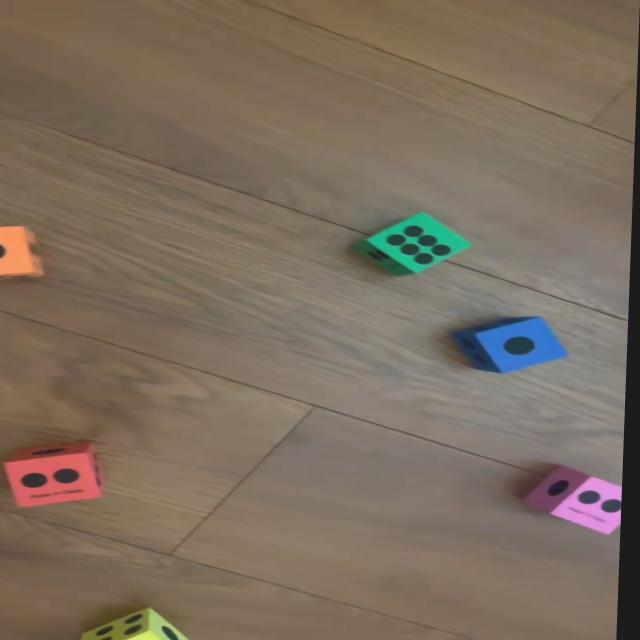cube: (350, 212, 473, 274), (9, 440, 111, 507), (458, 315, 573, 374)
